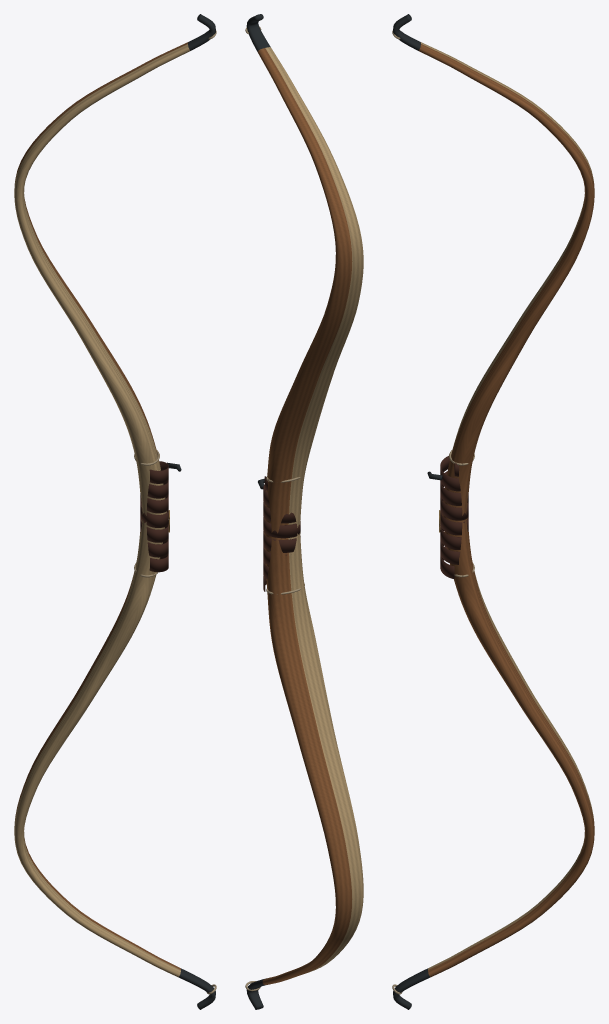
The model's file is bow_lod0.glb.
The picture shows the model from 3 angles, left to right: view 1: azimuth 90°, elevation 25°; view 2: azimuth 210°, elevation 25°; view 3: azimuth 270°, elevation 25°; orthographic projection.
Visible parts, largest first — view 1: BowMesh_LOD0; view 2: BowMesh_LOD0; view 3: BowMesh_LOD0.
Boxes of the visible parts, <box> form: BowMesh_LOD0: <box>14,14,216,1009</box>; BowMesh_LOD0: <box>245,14,363,1009</box>; BowMesh_LOD0: <box>392,14,594,1009</box>.
Bounding box in the file's own units: 0.064 × 1.48 × 0.2727.
6 materials, 4 textured.
